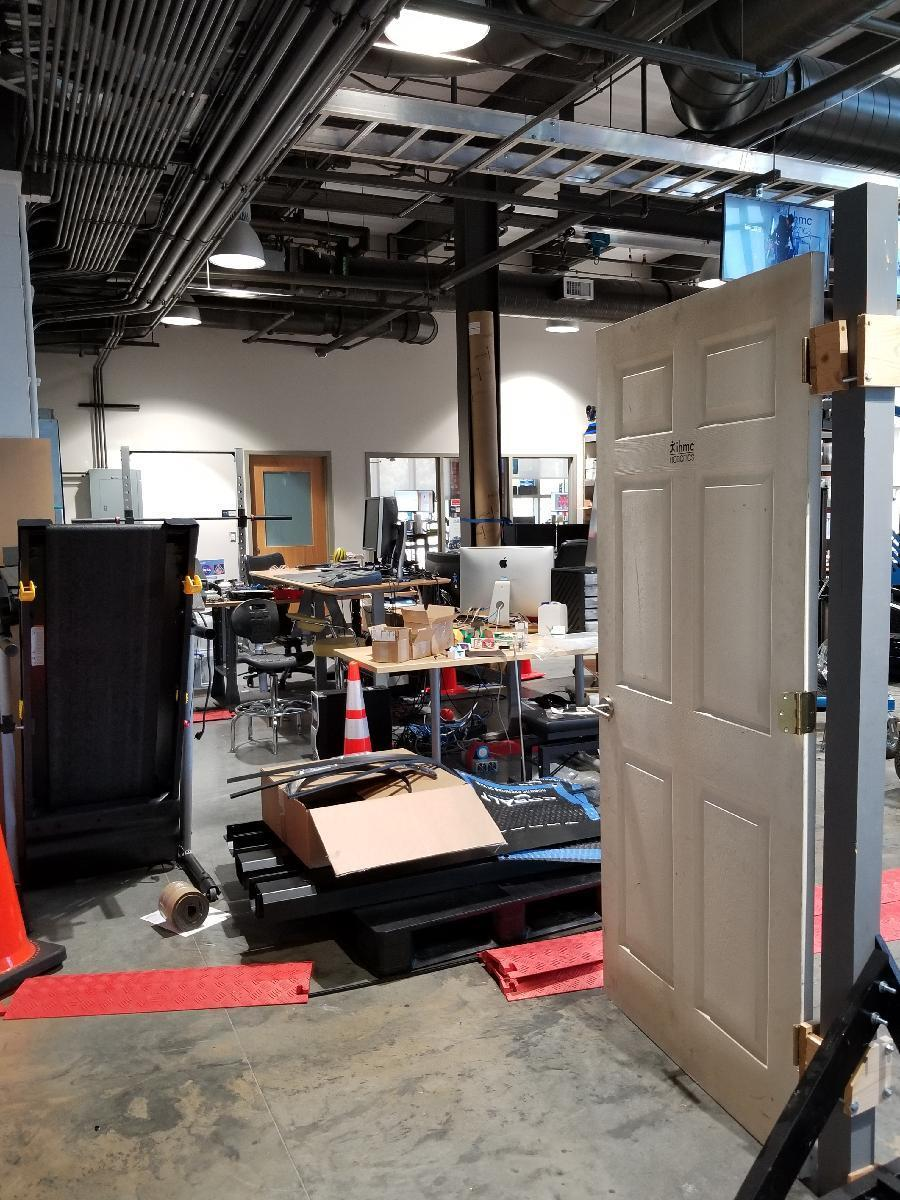door: (596, 323, 823, 1107), (246, 453, 329, 582)
handle: (591, 685, 623, 728)
